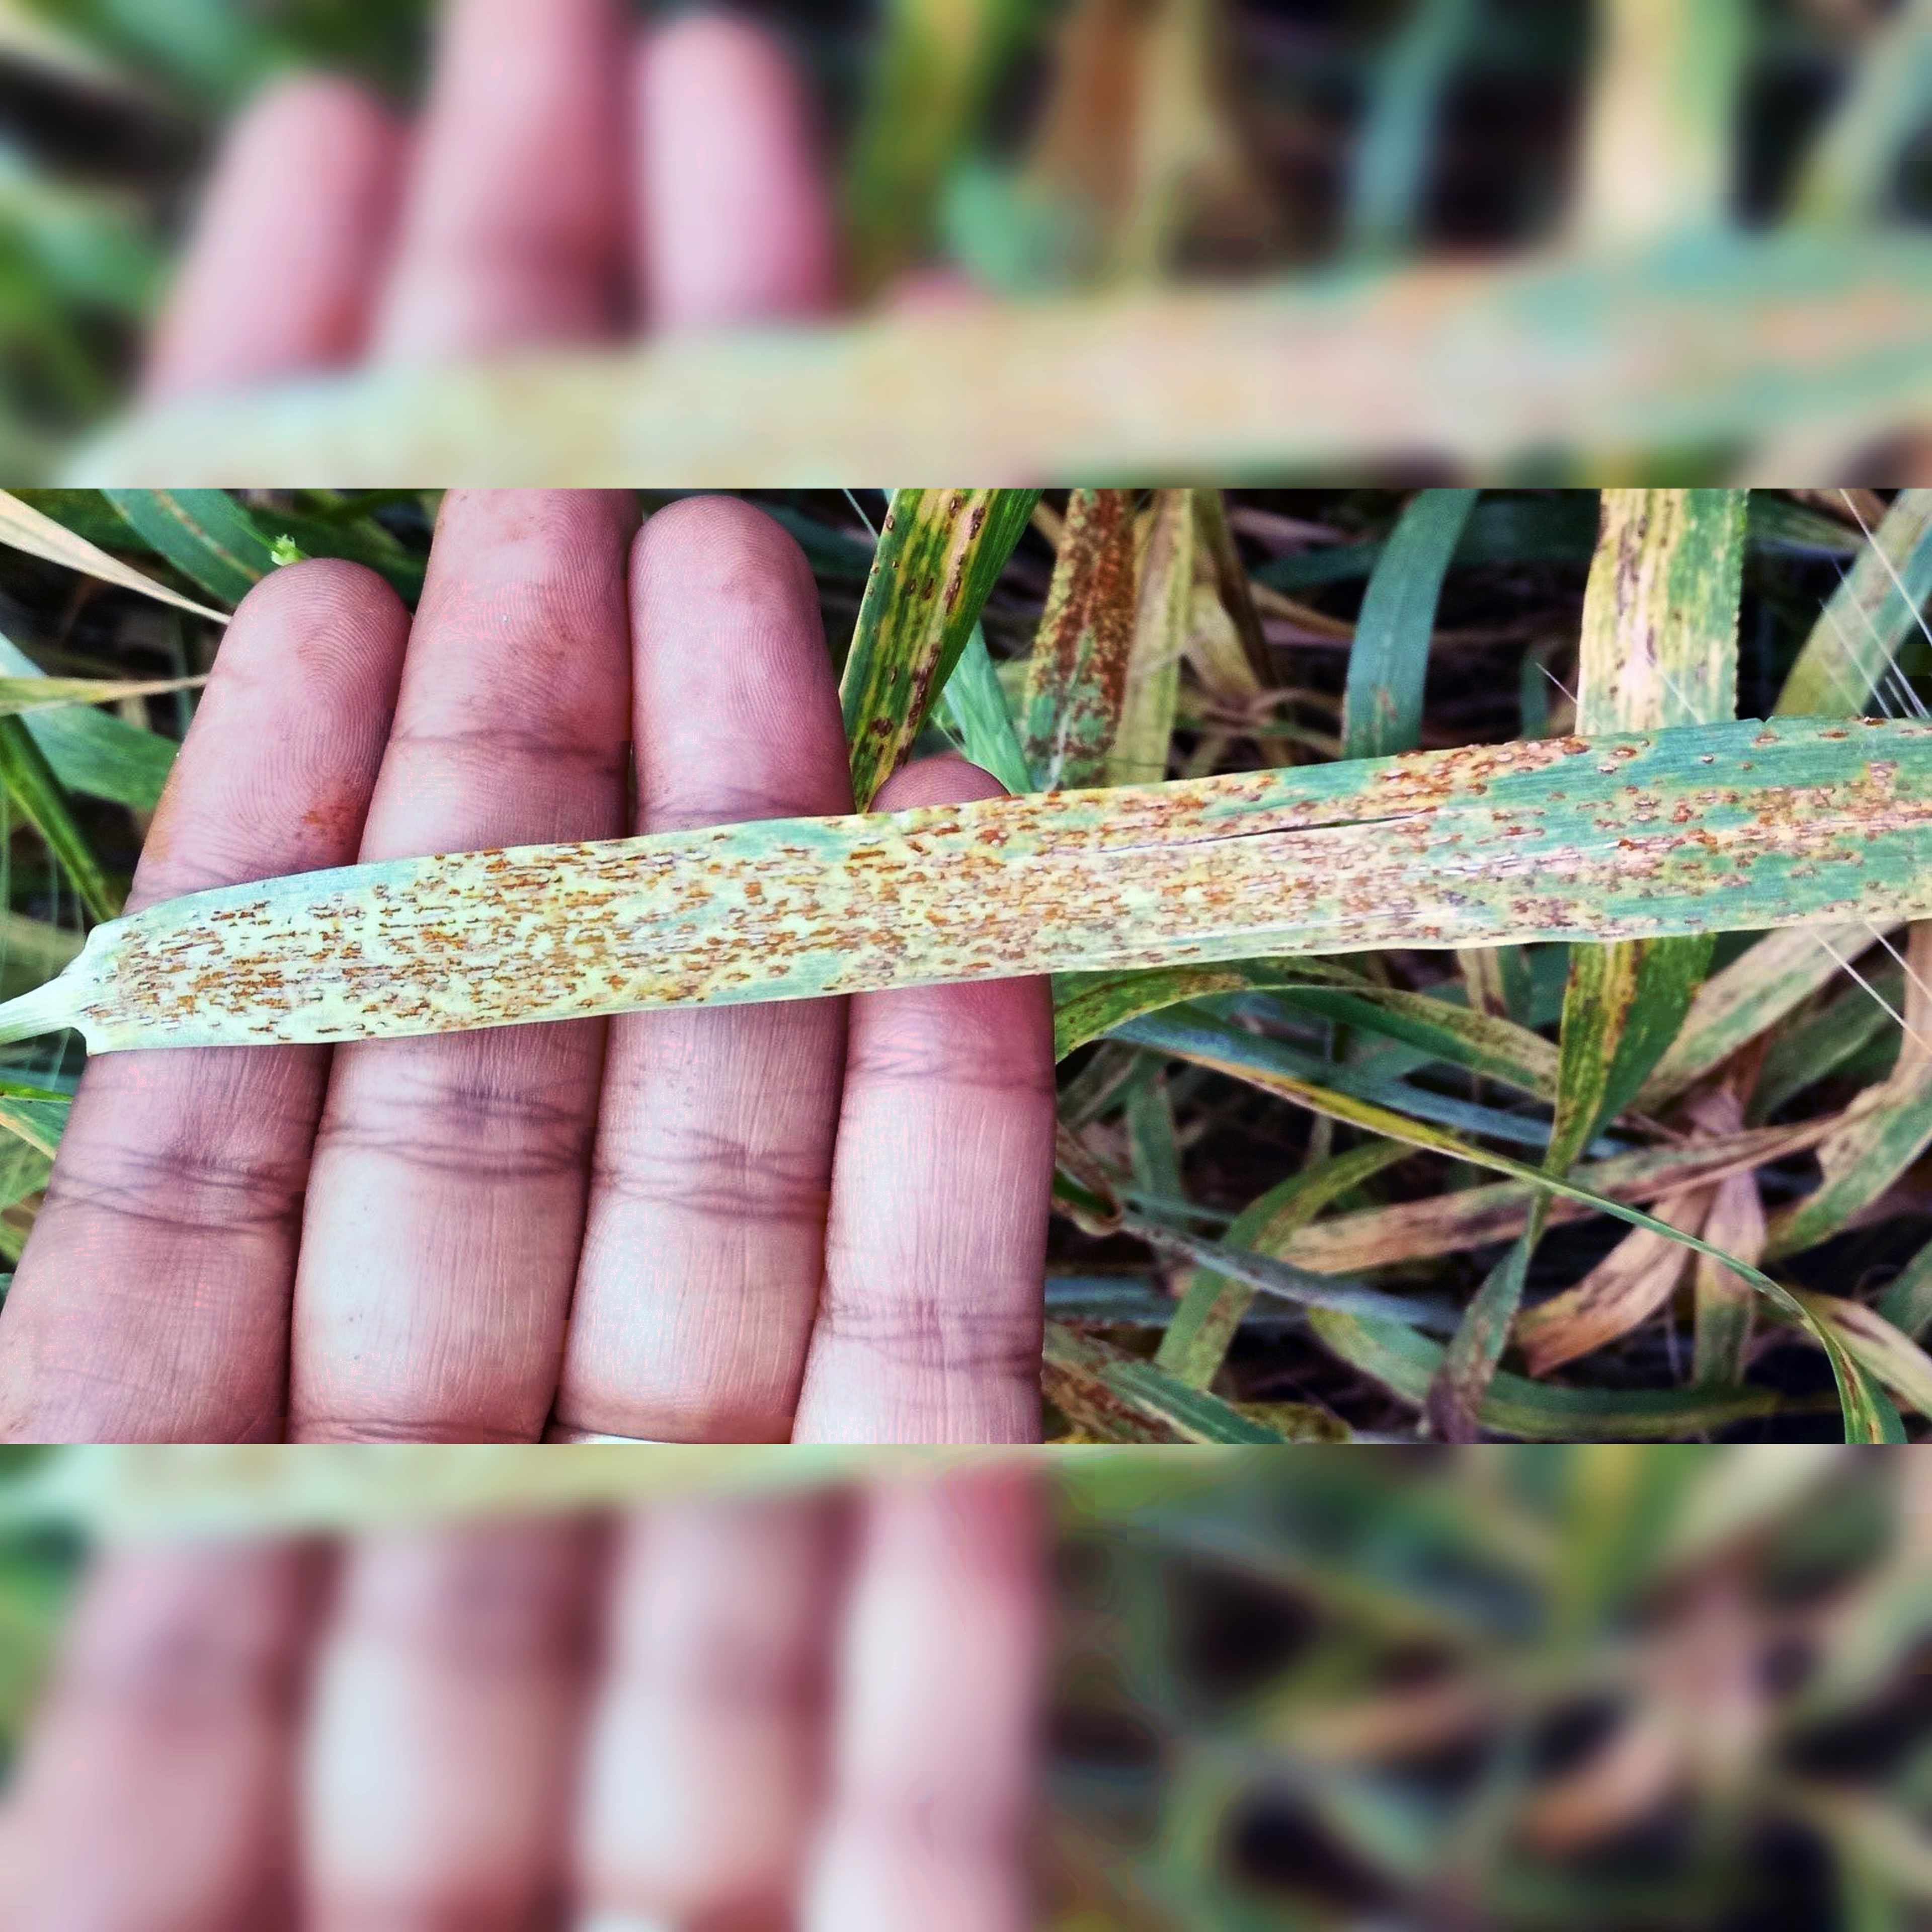Leaf Rust: (73, 717, 1854, 1058)
